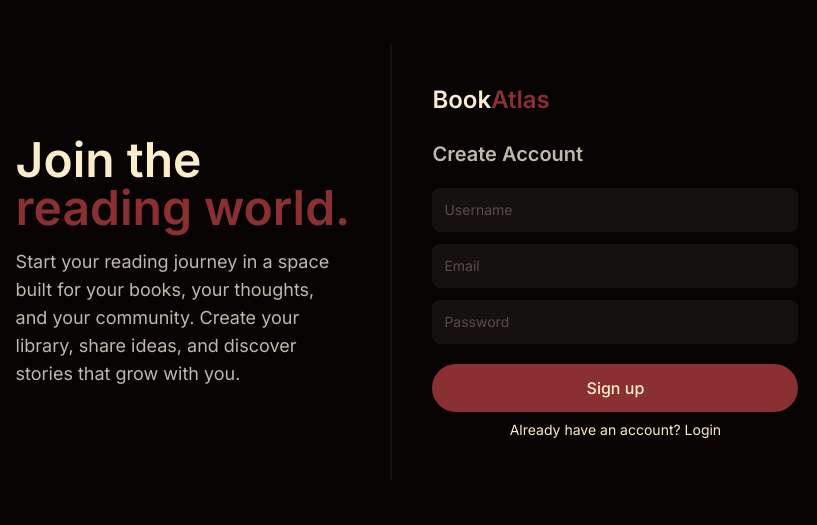
RegisterPage › shows an error for invalid email
The image size is (817, 525).
Type "testuser1" into the field with placeholder "Username" at (615, 210), box [432,188,798,232]
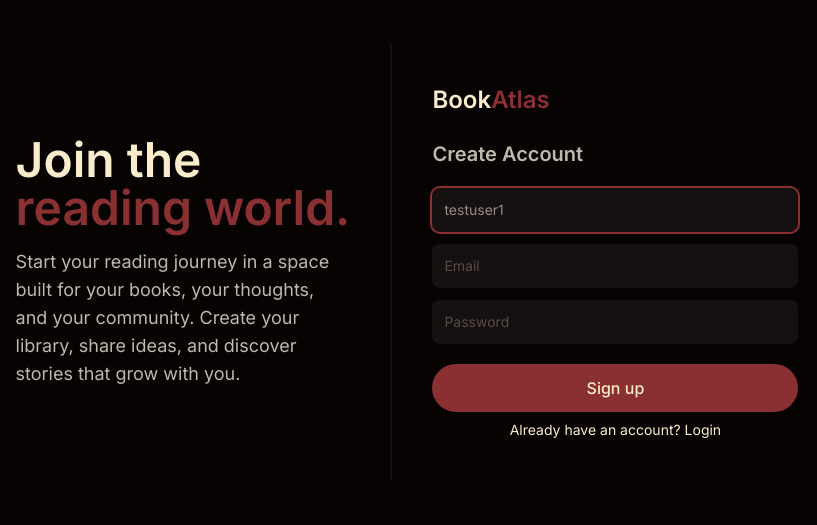
Type "invalidemail" into the field with placeholder "Email" at (615, 266), box [432,244,798,288]
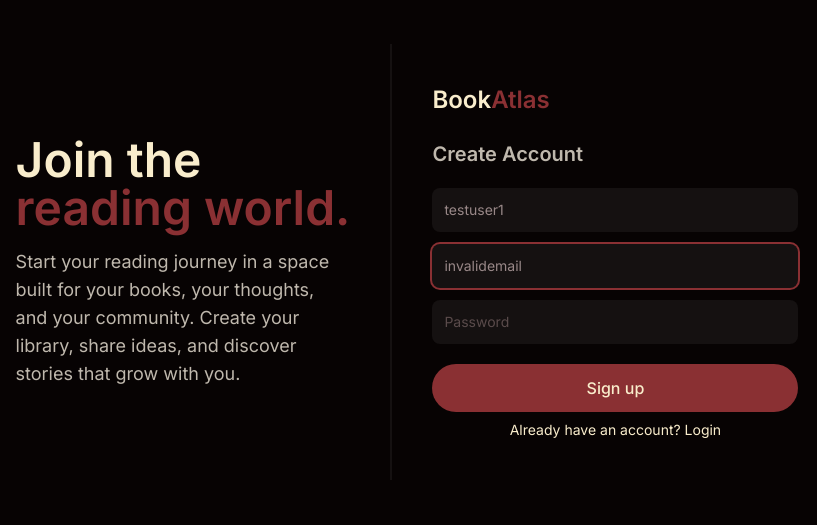
Type "Password123!" into the password field with placeholder "Password" at (615, 322), box [432,300,798,344]
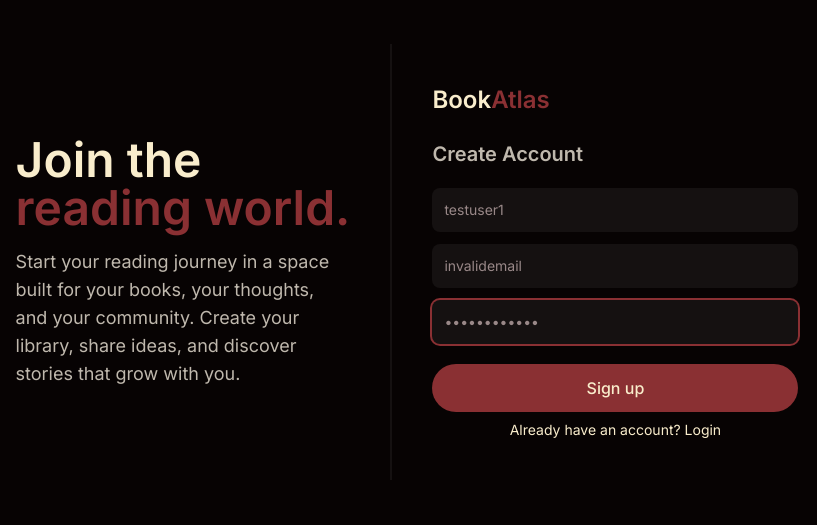
Click the button "Sign up" at (615, 388), box [432,364,798,412]
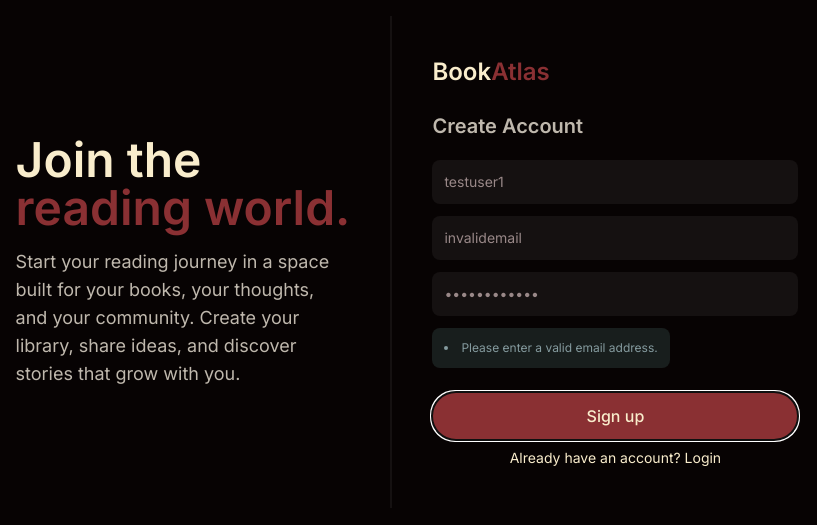
Result: the list item "Please enter a valid email address." is shown at [444,340,658,356]
